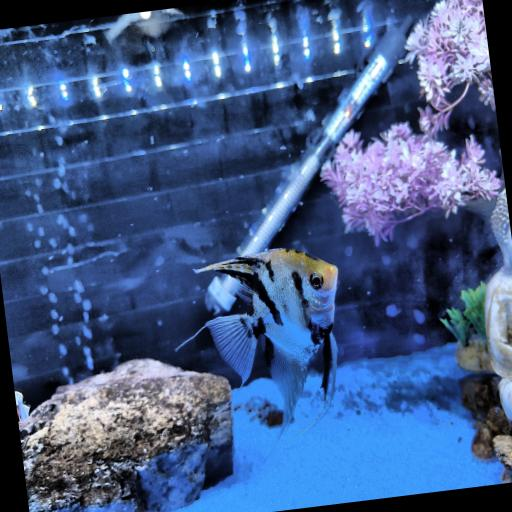Fish: (195, 249, 338, 434), (107, 8, 184, 42), (15, 391, 30, 422)
